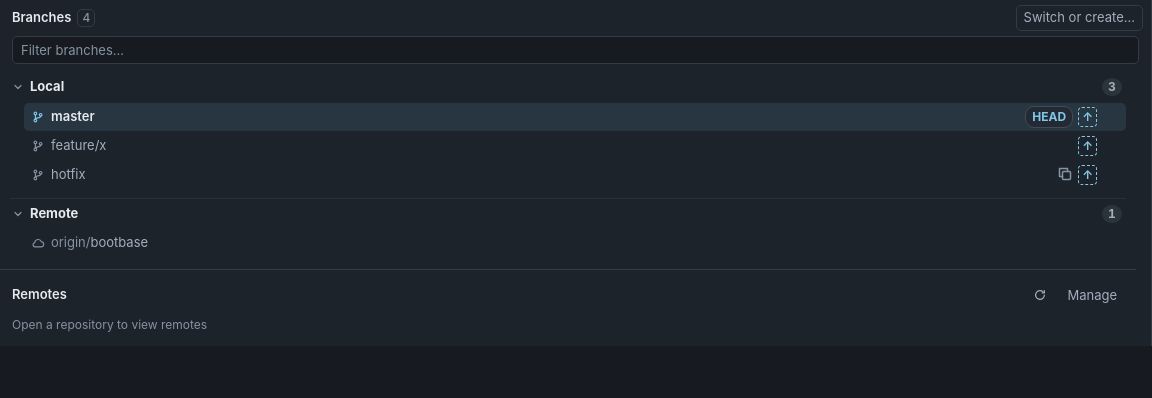
Test case: updates an open branch menu when checkout changes which branch is current
Right-click the button with aria-label "Show history of feature/x" at (79, 145), box [51,136,1073,156]
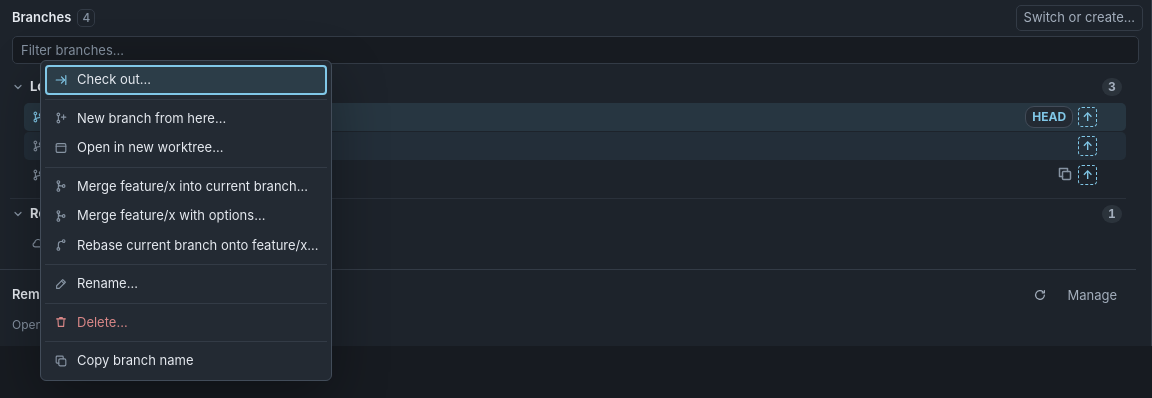
Expected: the menu item "Merge feature/x into current branch…" is shown, [45,172,327,201]
